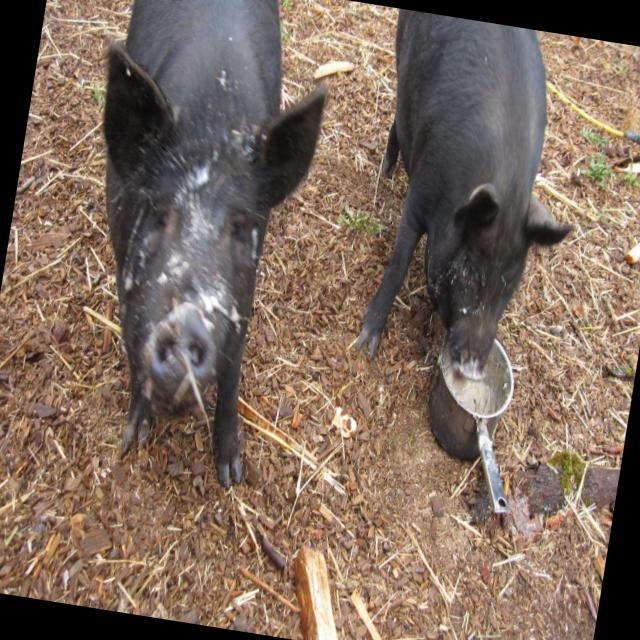pig: (102, 0, 326, 491), (354, 8, 572, 381)
